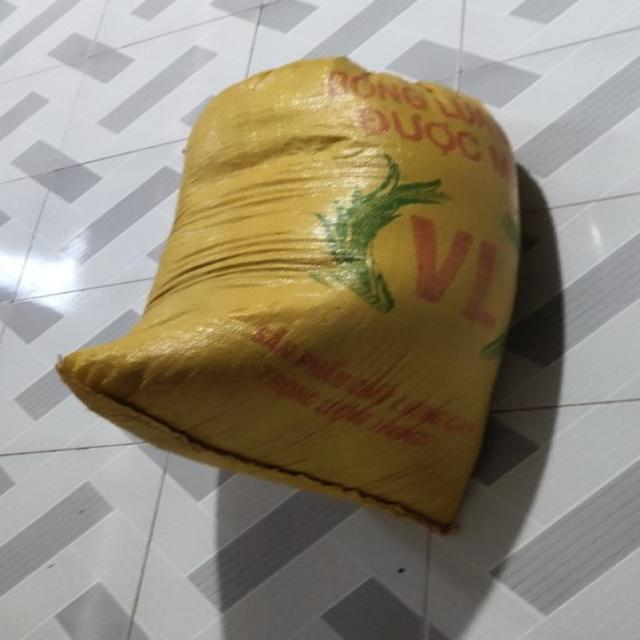gunny_bag: (56, 57, 521, 534)
